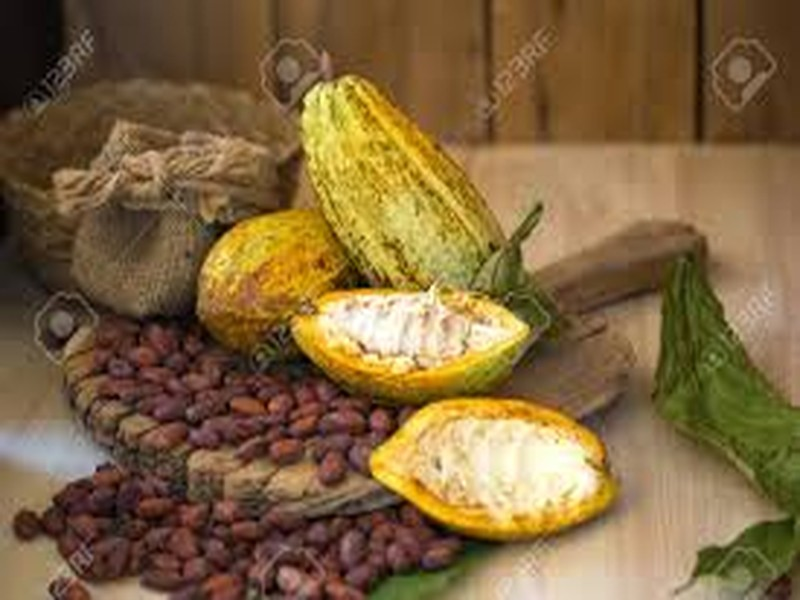Cacaopod: (299, 72, 510, 290)
